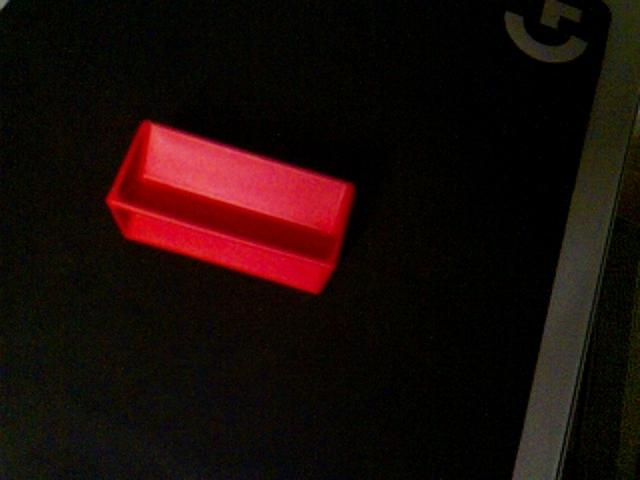red: (104, 117, 357, 296)
